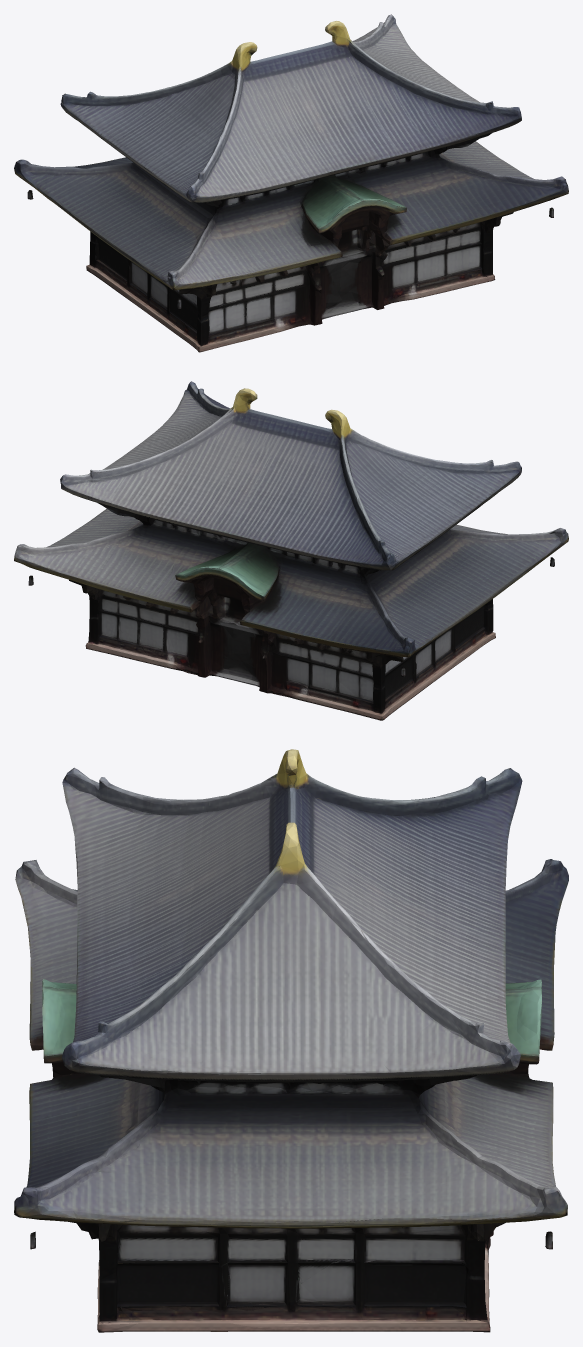
The model's file is Daibutsuden.glb.
The picture shows the model from 3 angles, top to bottom: view 1: azimuth 30°, elevation 25°; view 2: azimuth 150°, elevation 25°; view 3: azimuth 270°, elevation 25°; orthographic projection. The views are drawn at different scales.
Visible parts, largest first — view 1: world; view 2: world; view 3: world.
Boxes of the visible parts, x1,y1,x2,y2 form: world: [14, 14, 568, 352]; world: [14, 381, 568, 720]; world: [14, 749, 568, 1332].
Bounding box in the file's own units: 0.9985 × 0.5869 × 0.7034.
Materials: 1 (1 with a texture image).
